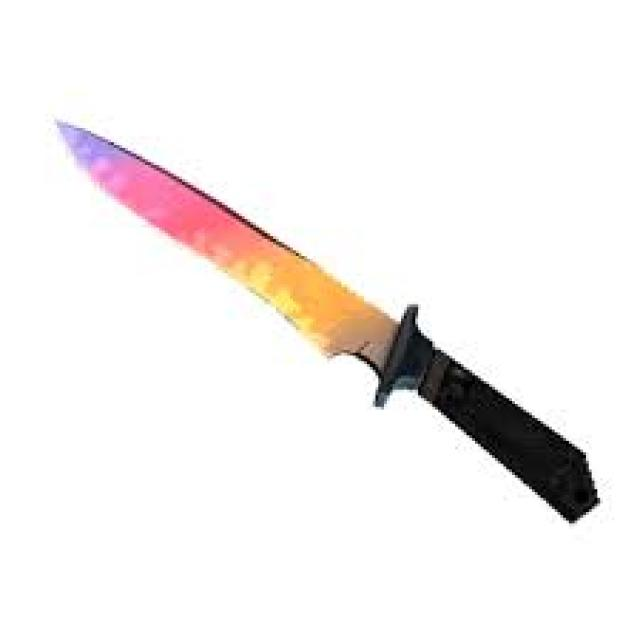knife: (49, 113, 607, 533)
